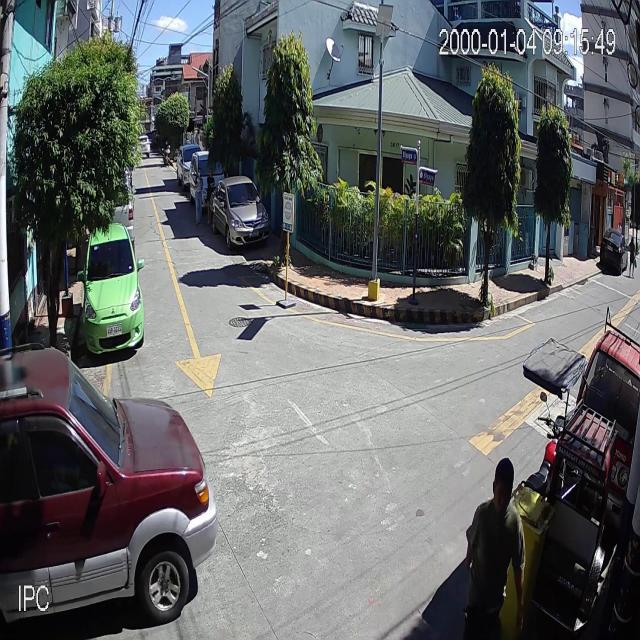walking: (465, 456, 526, 640)
